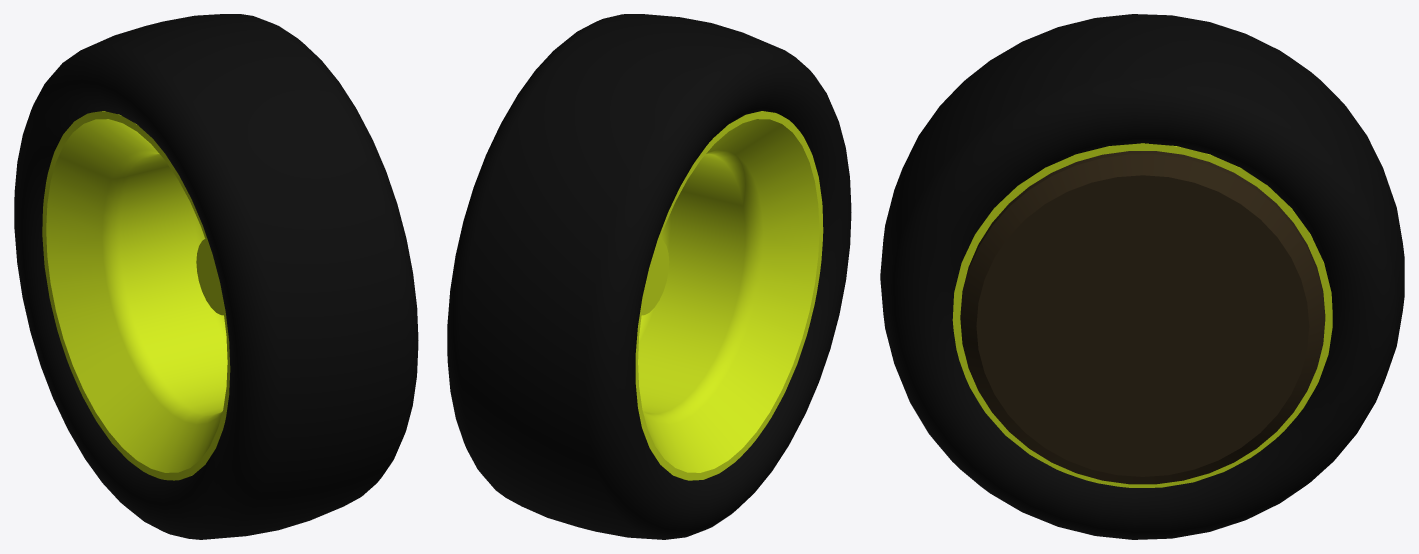
Rendered from wheel_link.dae.
The picture shows the model from 3 angles, left to right: view 1: azimuth 30°, elevation 25°; view 2: azimuth 150°, elevation 25°; view 3: azimuth 270°, elevation 25°; orthographic projection.
Visible parts, largest first — view 1: wheel_link; view 2: wheel_link; view 3: wheel_link.
Part boxes in pixels (x1,y1,x2,y2): wheel_link: (14,14,418,539); wheel_link: (447,14,851,539); wheel_link: (880,14,1404,539).
Bounding box in the file's own units: 0.0274 × 0.0654 × 0.0655.
